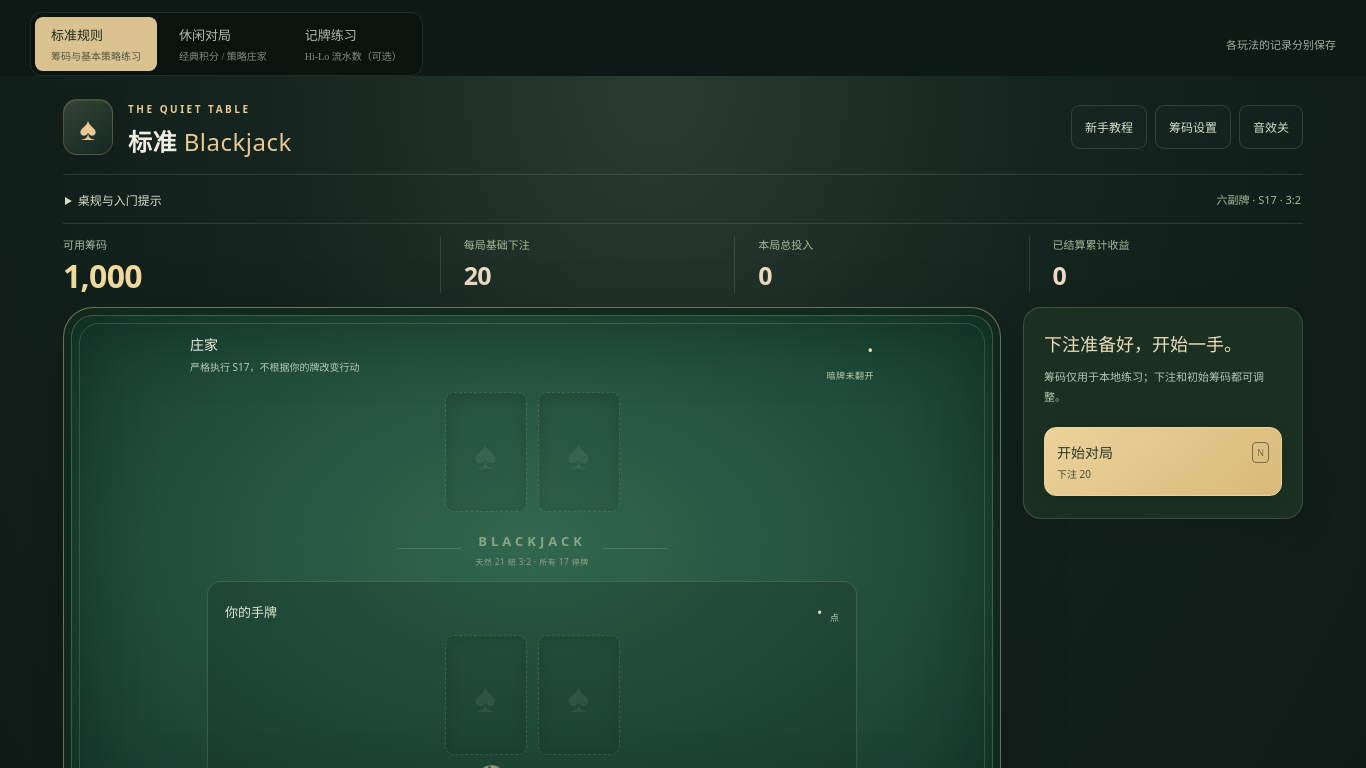
Scenario: HiLoTrainer › is an optional third tab in the lobby
The image size is (1366, 768).
What coordinates should you click on to do the following:
click the button "记牌练习 Hi-Lo 流水数（可选）"
I would click on:
 (353, 44)
Its box is [289,17,418,71].
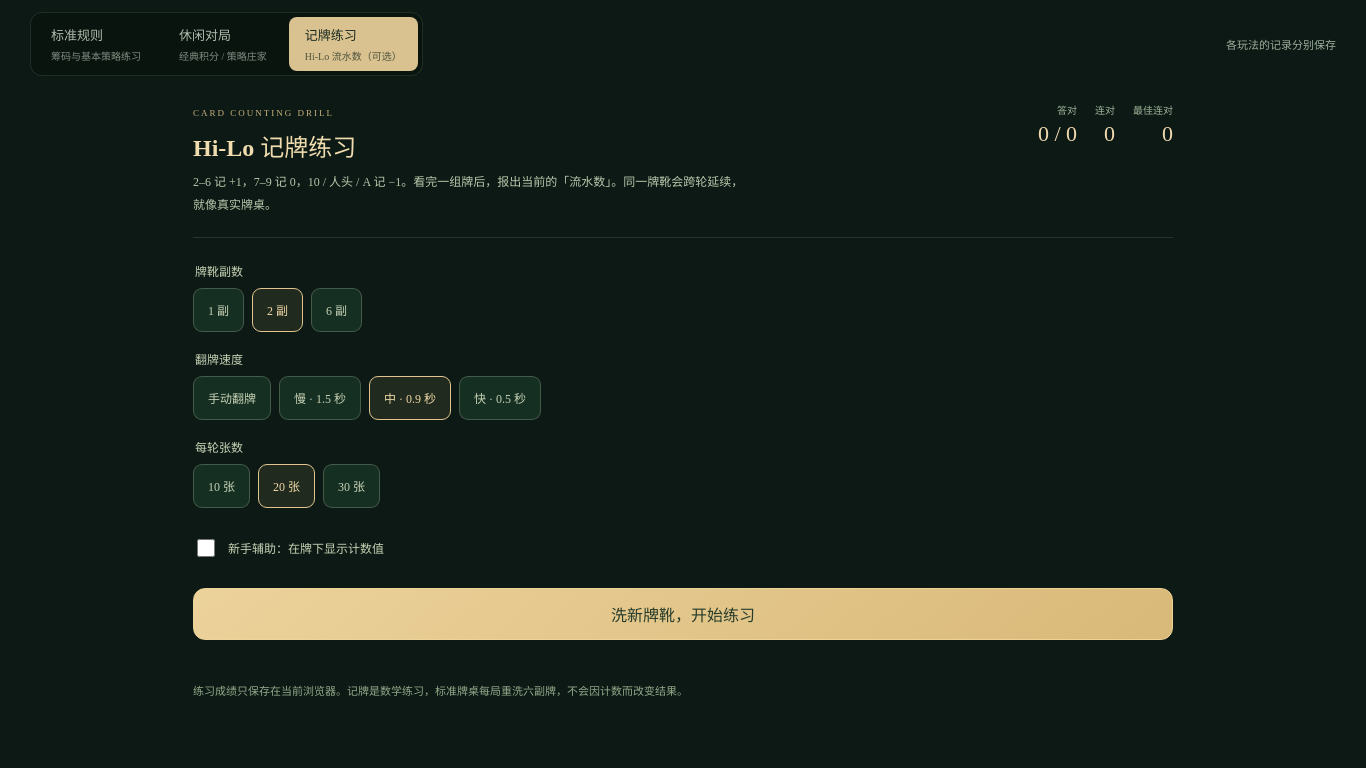
Now the heading "Hi-Lo 记牌练习" is shown, box [193,135,356,161]
